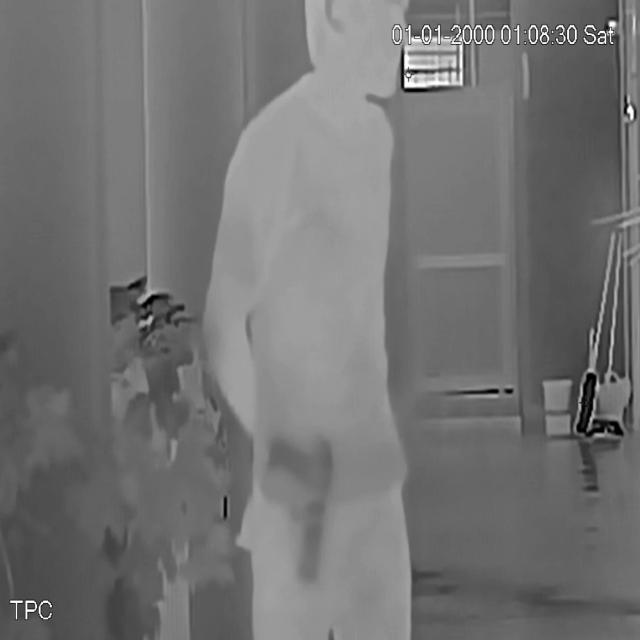Weapon: (266, 429, 338, 603)
